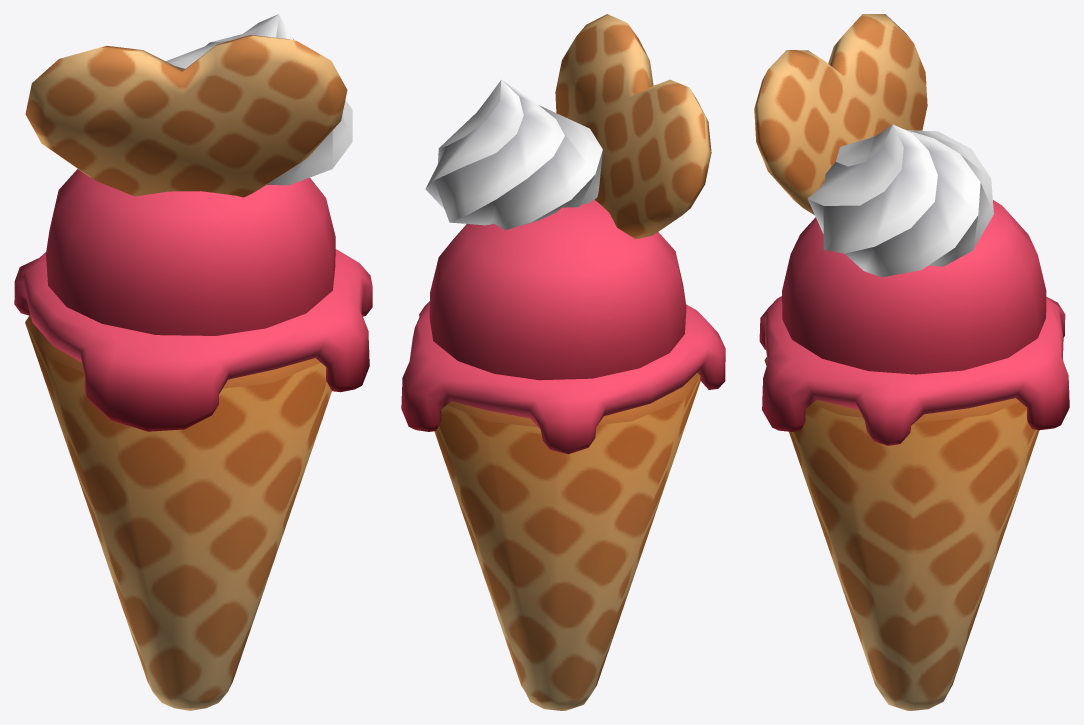
File: m_IceCream13.fbx
3 renders of one model, left to right at view 1: azimuth 30°, elevation 25°; view 2: azimuth 150°, elevation 25°; view 3: azimuth 270°, elevation 25°, orthographic. The views are drawn at different scales.
Parts seen in each view (by area): view 1: m_IceCream13; view 2: m_IceCream13; view 3: m_IceCream13.
Part boxes in pixels (<box>): m_IceCream13: <box>14,14,372,710</box>; m_IceCream13: <box>401,14,725,710</box>; m_IceCream13: <box>754,14,1069,710</box>.
Bounding box in the file's own units: 10.22 × 21.5 × 9.41.
